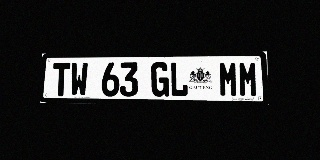3: (120, 62, 138, 96)
6: (101, 62, 120, 96)
G: (151, 62, 169, 97)
L: (170, 62, 188, 97)
M: (238, 61, 258, 97), (219, 62, 238, 97)
T: (52, 63, 70, 96)
W: (70, 62, 88, 96)
